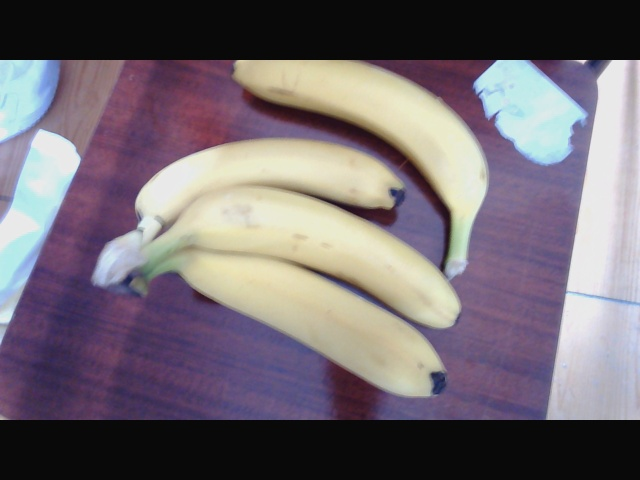banana: (139, 62, 496, 409)
